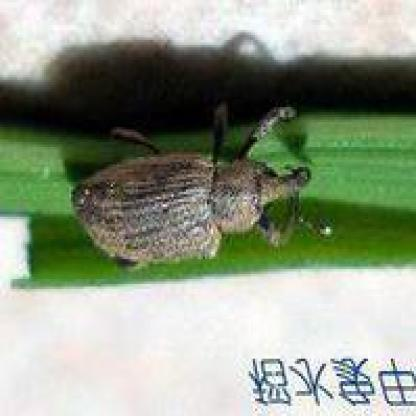rice-bug: (71, 104, 320, 272)
